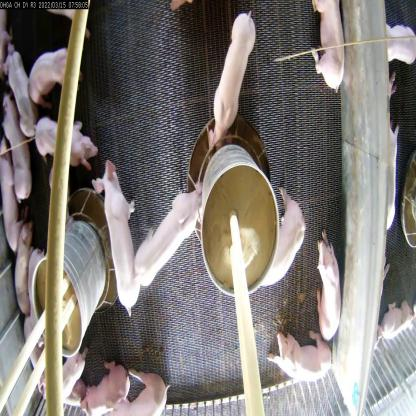Pig: (94, 157, 145, 319), (203, 10, 252, 150), (134, 190, 199, 291), (258, 189, 309, 291), (312, 220, 352, 344), (268, 314, 335, 387), (102, 365, 177, 415), (0, 96, 36, 198), (311, 0, 347, 93), (7, 42, 39, 146), (36, 116, 95, 168), (27, 43, 74, 108), (0, 129, 23, 256), (79, 359, 127, 415), (43, 345, 85, 398), (374, 21, 416, 72), (21, 319, 47, 398), (8, 218, 31, 301)
